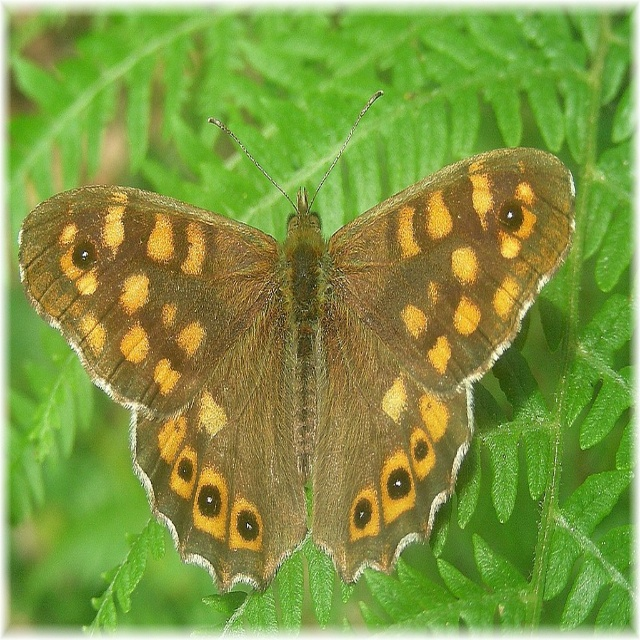Butterfly: (19, 73, 578, 612)
